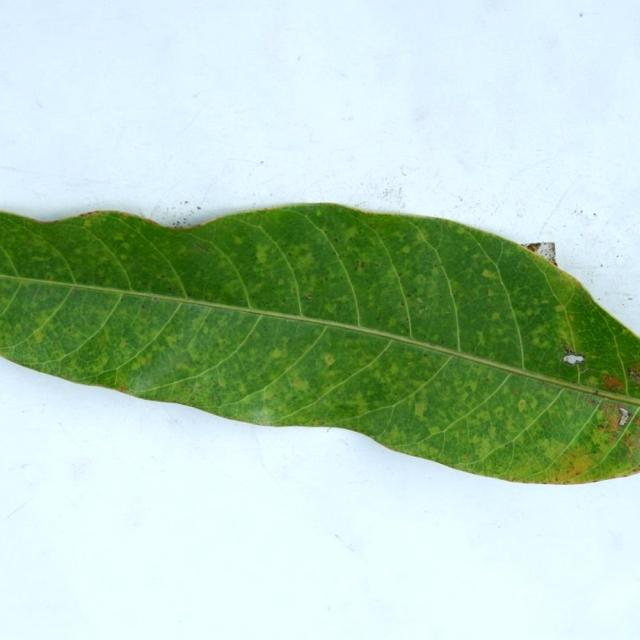Mango: (0, 204, 639, 483)
Powdery_Mildew: (11, 287, 81, 351), (185, 319, 230, 364), (407, 269, 446, 306), (316, 350, 349, 371), (474, 328, 501, 352), (513, 394, 539, 413), (288, 375, 309, 391), (531, 333, 552, 348), (513, 396, 529, 413), (342, 227, 359, 243), (475, 409, 492, 424), (254, 251, 269, 266), (31, 329, 46, 343), (465, 379, 479, 393), (414, 401, 427, 416), (322, 302, 337, 315), (481, 268, 498, 279), (165, 334, 179, 347), (269, 347, 284, 359), (322, 354, 335, 366), (216, 376, 229, 388), (490, 311, 502, 321), (555, 304, 567, 313), (119, 339, 129, 349), (401, 245, 412, 254), (233, 237, 244, 246), (277, 279, 285, 286), (416, 297, 424, 303)
